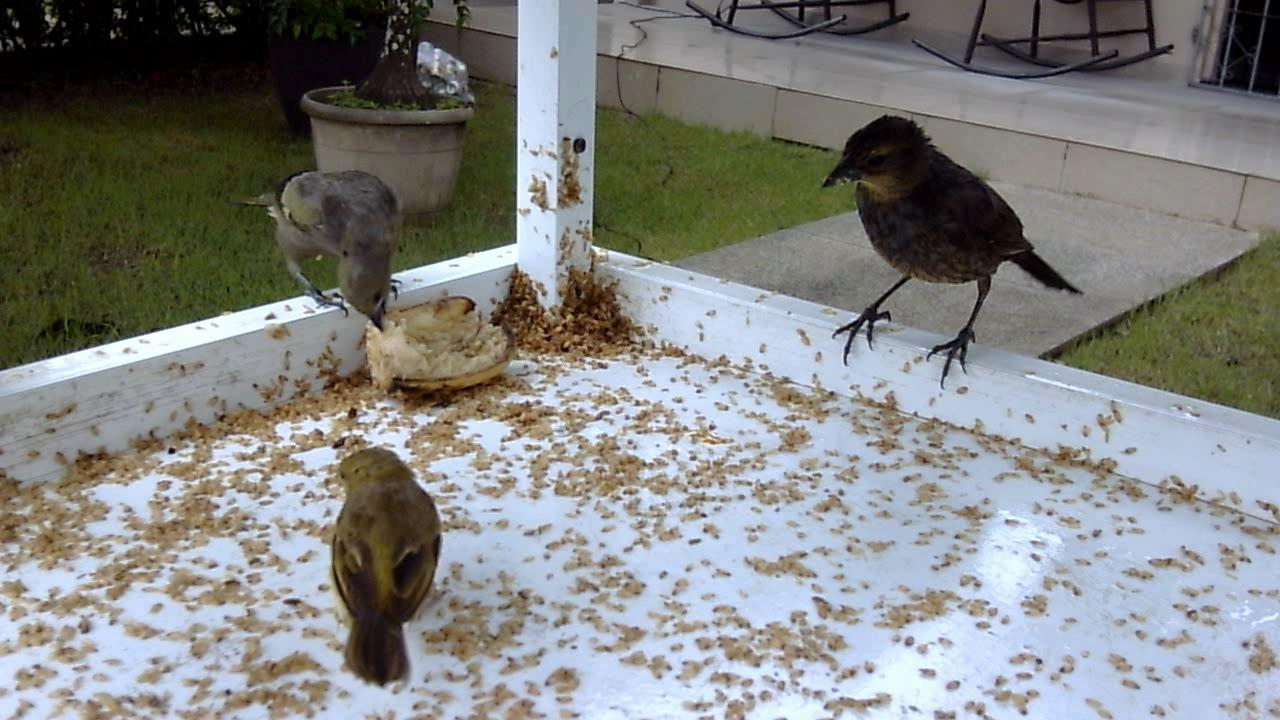canario_do_amazonas: (321, 436, 447, 693)
chupim: (816, 108, 1086, 397)
sanhaco_do_coqueiro: (226, 163, 406, 340)
